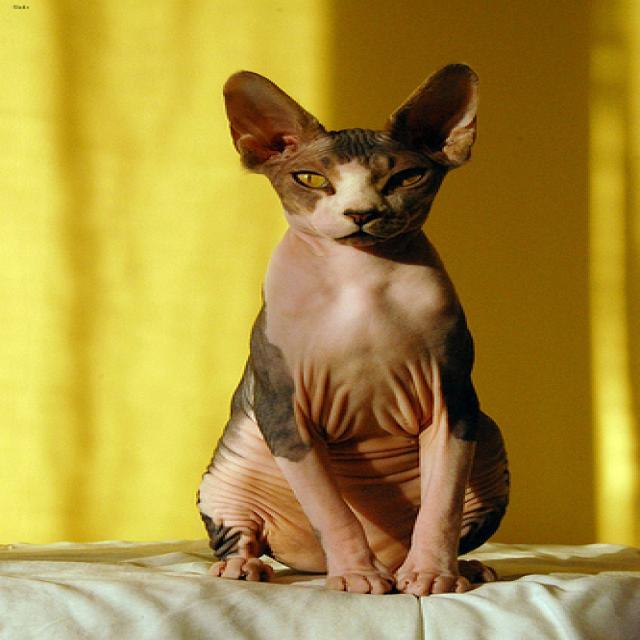Sphynx: (221, 62, 477, 245)
